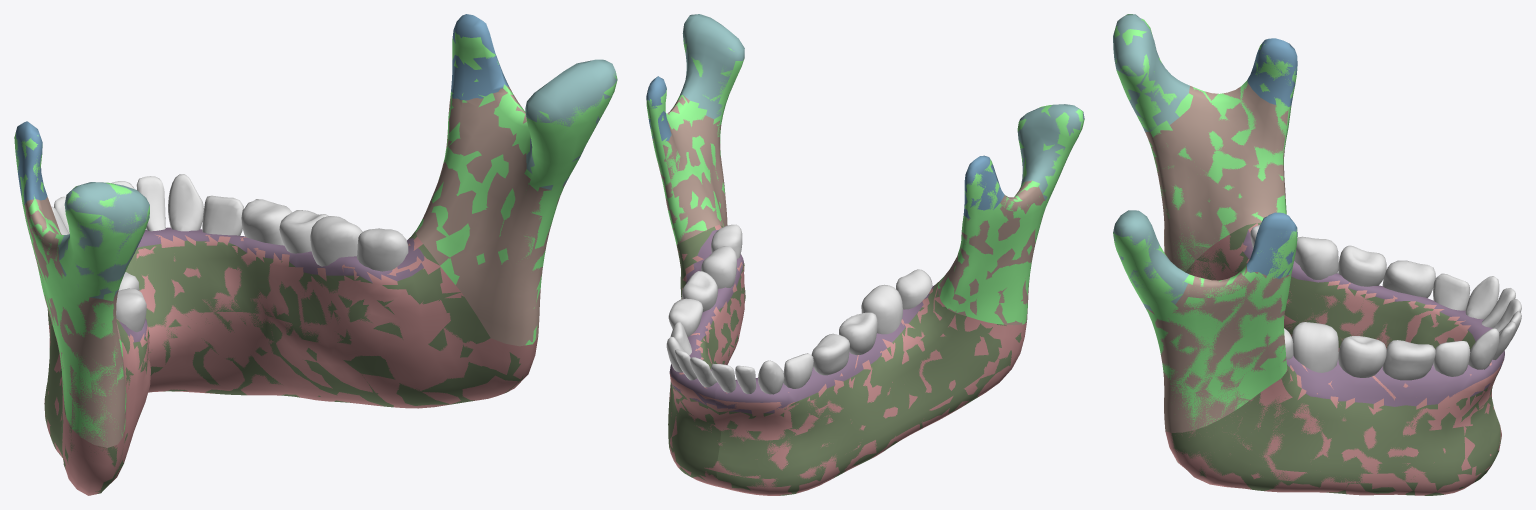
The model's file is WholeMandible.fbx.
The picture shows the model from 3 angles, left to right: view 1: azimuth 30°, elevation 25°; view 2: azimuth 150°, elevation 25°; view 3: azimuth 270°, elevation 25°; orthographic projection. The views are drawn at different scales.
Visible parts, largest first — view 1: Body, Mandibular, Base, Ramus, MandibleTeeth, CondlarProcess, Coronoid, Alveolar; view 2: Base, Body, Ramus, Mandibular, MandibleTeeth, CondlarProcess, Alveolar, Coronoid; view 3: Base, Mandibular, Ramus, Body, MandibleTeeth, Alveolar, CondlarProcess, Coronoid.
Boxes of the visible parts, left/top/right/bottom form: Body: left=44, top=215, right=537, bottom=495; Mandibular: left=24, top=85, right=565, bottom=447; Base: left=44, top=230, right=523, bottom=493; Ramus: left=14, top=32, right=617, bottom=444; MandibleTeeth: left=51, top=174, right=408, bottom=330; CondlarProcess: left=58, top=59, right=617, bottom=299; Coronoid: left=15, top=14, right=509, bottom=204; Alveolar: left=119, top=227, right=424, bottom=342; Base: left=668, top=225, right=1021, bottom=495; Body: left=667, top=224, right=1026, bottom=495; Ramus: left=646, top=37, right=1084, bottom=324; Mandibular: left=652, top=95, right=1044, bottom=325; MandibleTeeth: left=666, top=224, right=932, bottom=387; CondlarProcess: left=680, top=14, right=1084, bottom=200; Alveolar: left=669, top=230, right=934, bottom=413; Coronoid: left=646, top=76, right=1004, bottom=218; Base: left=1171, top=222, right=1501, bottom=495; Mandibular: left=1145, top=83, right=1291, bottom=432; Ramus: left=1113, top=14, right=1297, bottom=429; Body: left=1165, top=223, right=1521, bottom=495; MandibleTeeth: left=1250, top=225, right=1521, bottom=377; Alveolar: left=1243, top=229, right=1504, bottom=406; CondlarProcess: left=1113, top=14, right=1189, bottom=311; Coronoid: left=1246, top=38, right=1297, bottom=278.
Bounding box in the file's own units: 545 × 411 × 438.
